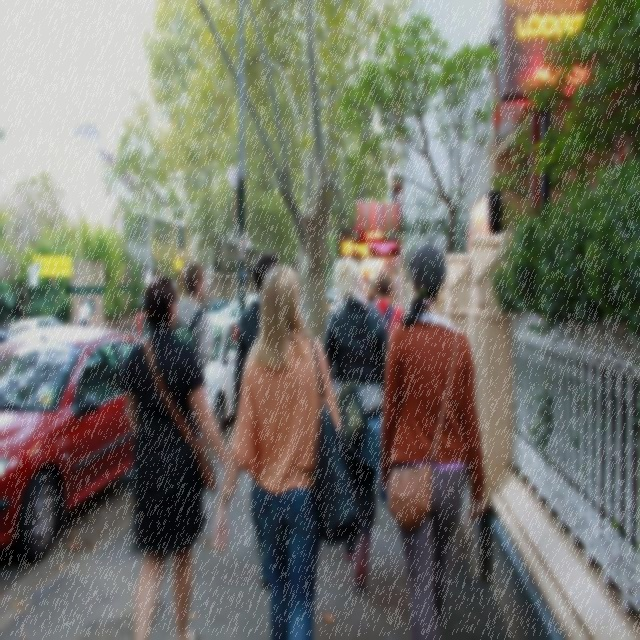pessoa: (114, 270, 240, 639), (378, 235, 490, 639), (229, 263, 345, 639), (314, 250, 394, 594), (231, 250, 280, 593), (174, 257, 214, 372), (374, 270, 404, 340), (74, 295, 92, 343)
